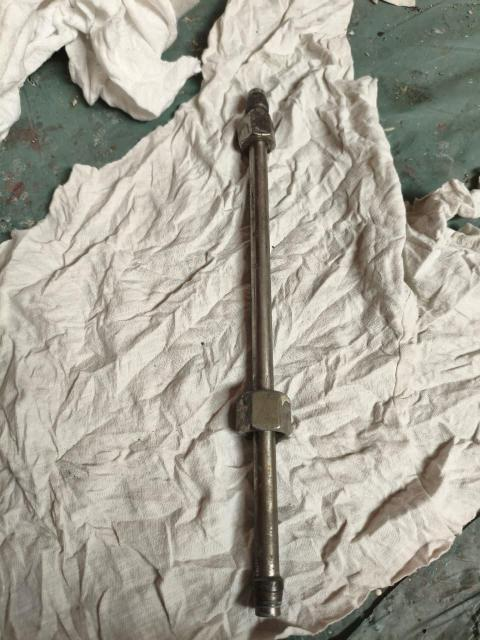Metal: (227, 83, 298, 622)
